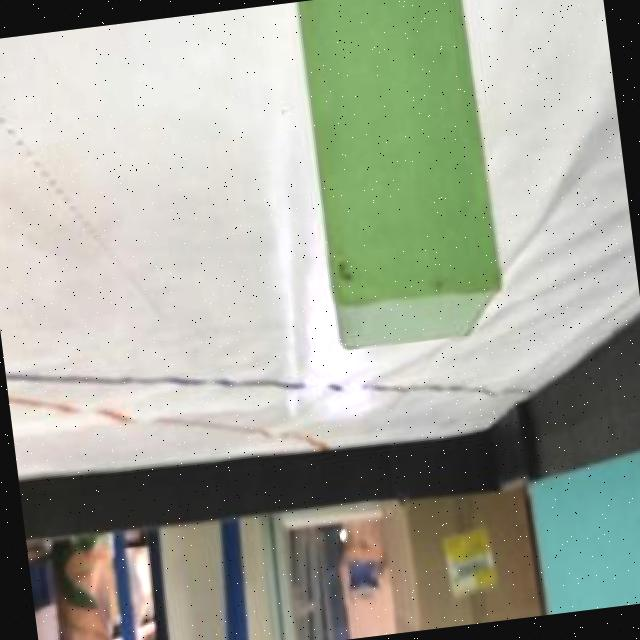greenbox: (293, 0, 508, 356)
